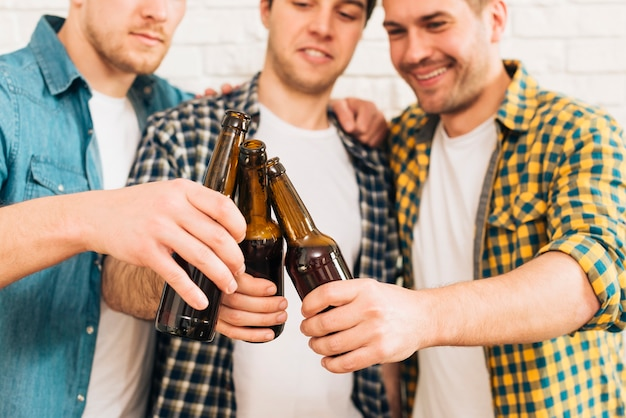alcohol: (265, 157, 376, 366), (154, 111, 249, 343), (233, 141, 290, 344)
